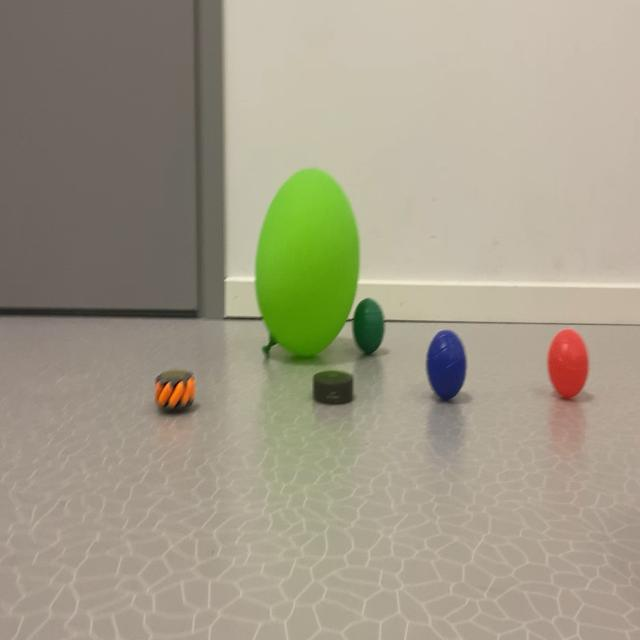7: (521, 308, 594, 427)
green ball: (414, 314, 466, 502)
red ball: (352, 256, 388, 384)
